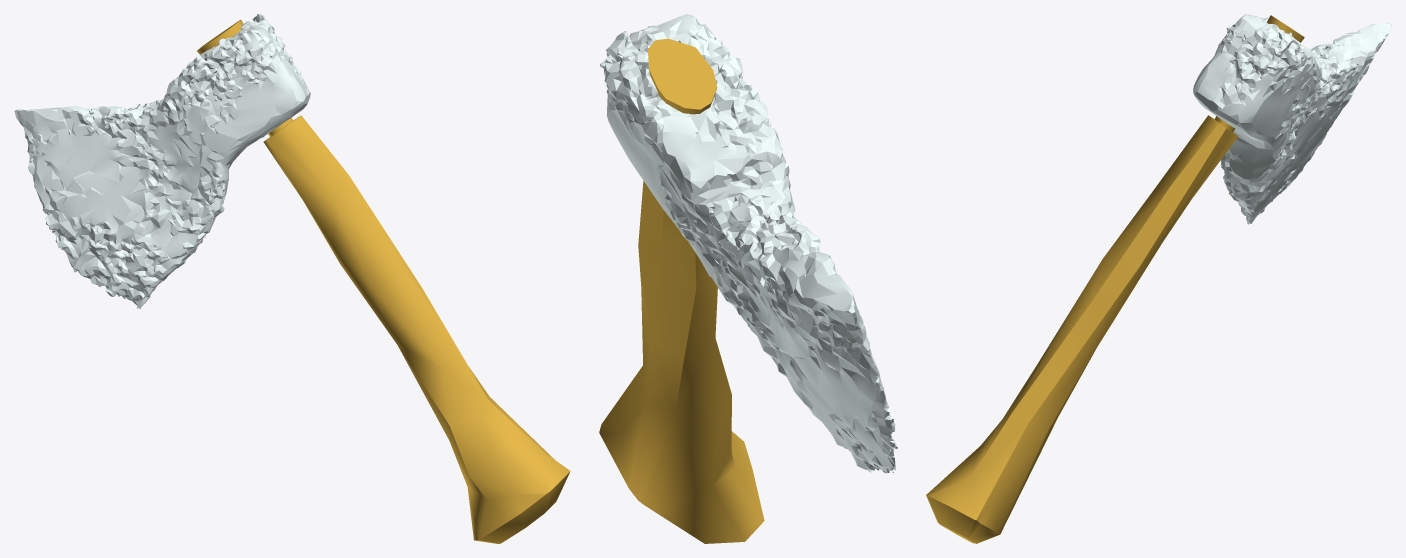
File: axe-iron-18.glb
3 views of the same model, side by side, from view 1: azimuth 30°, elevation 25°; view 2: azimuth 150°, elevation 25°; view 3: azimuth 270°, elevation 25° (orthographic). The views are drawn at different scales.
Visible parts, largest first — view 1: iron-axe-head, iron-axe; view 2: iron-axe-head, iron-axe; view 3: iron-axe, iron-axe-head.
Boxes of the visible parts, x1,y1,x2,y2 form: iron-axe-head: (14,14,310,308); iron-axe: (197,20,570,543); iron-axe-head: (600,14,897,473); iron-axe: (599,38,764,543); iron-axe: (926,15,1304,543); iron-axe-head: (1193,14,1391,224).
Bounding box in the file's own units: 0.7187 × 0.8663 × 0.7813.
